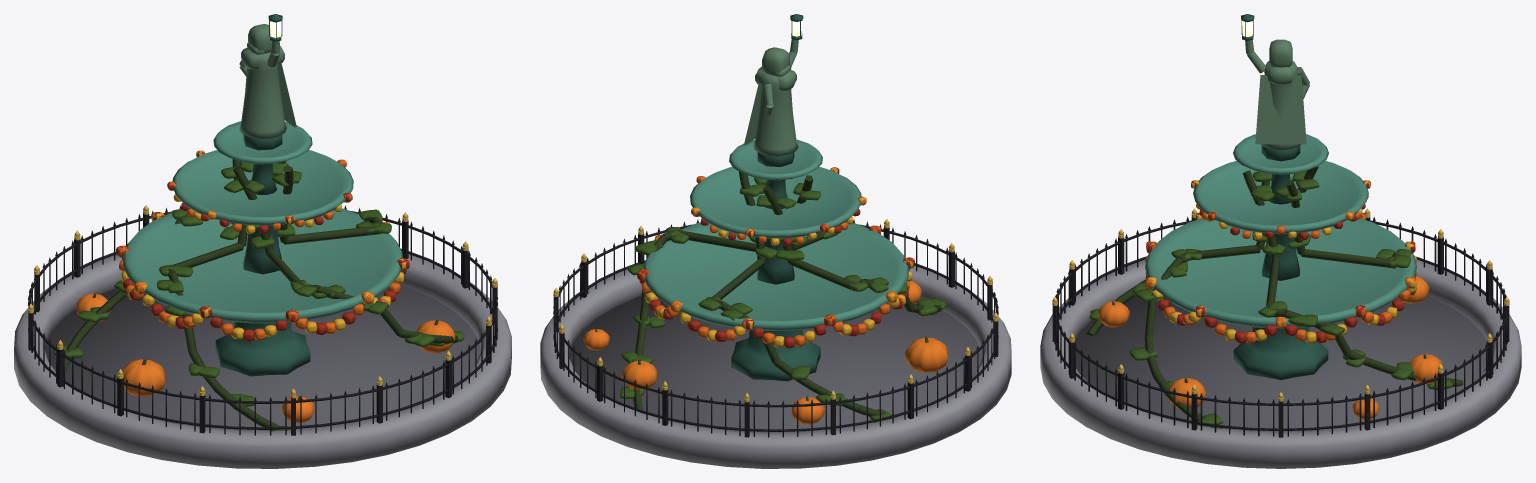
The model's file is hg-fountain.glb.
3 renders of one model, left to right at view 1: azimuth 30°, elevation 25°; view 2: azimuth 150°, elevation 25°; view 3: azimuth 270°, elevation 25°, orthographic. The views are drawn at different scales.
Visible parts, largest first — view 1: hg-fountain; view 2: hg-fountain; view 3: hg-fountain.
Boxes of the visible parts, left/top/right/bottom form: hg-fountain: left=14, top=14, right=511, bottom=468; hg-fountain: left=540, top=14, right=1011, bottom=468; hg-fountain: left=1040, top=14, right=1521, bottom=468.
Size of the model in its own units: 7.5 by 6.02 by 7.5.
